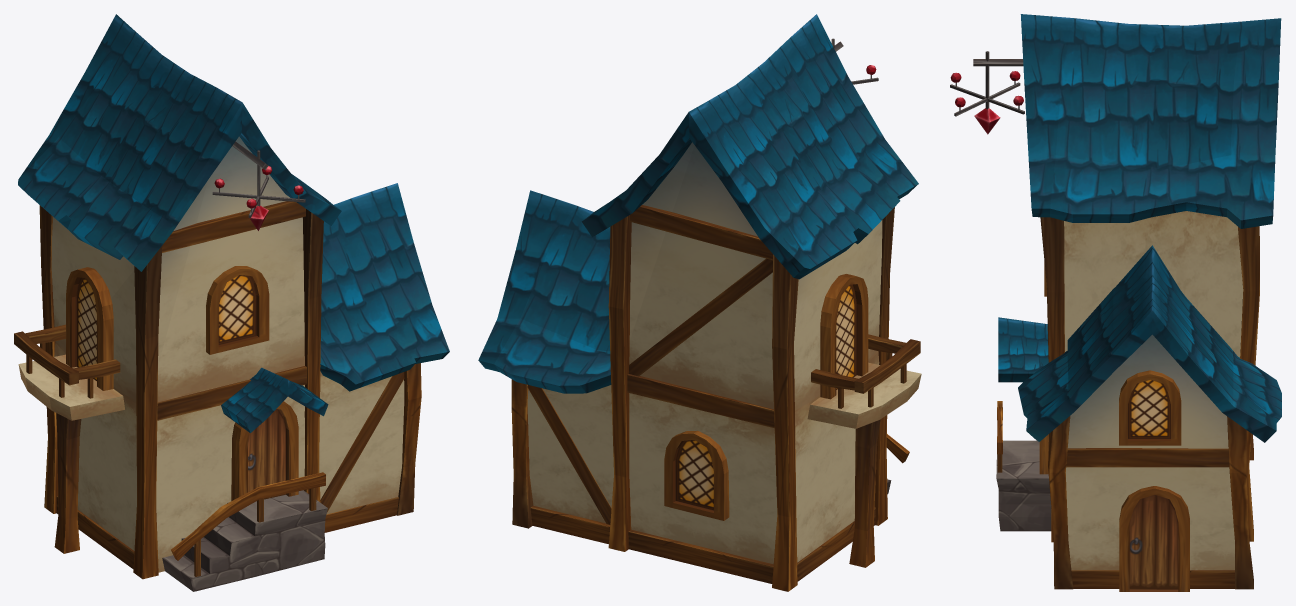
File: house.glb
3 views of the same model, side by side, from view 1: azimuth 30°, elevation 25°; view 2: azimuth 150°, elevation 25°; view 3: azimuth 270°, elevation 25° (orthographic). The views are drawn at different scales.
Bounding box in the file's own units: 7.41 × 9.14 × 5.71.
Materials: 1 (1 with a texture image).
